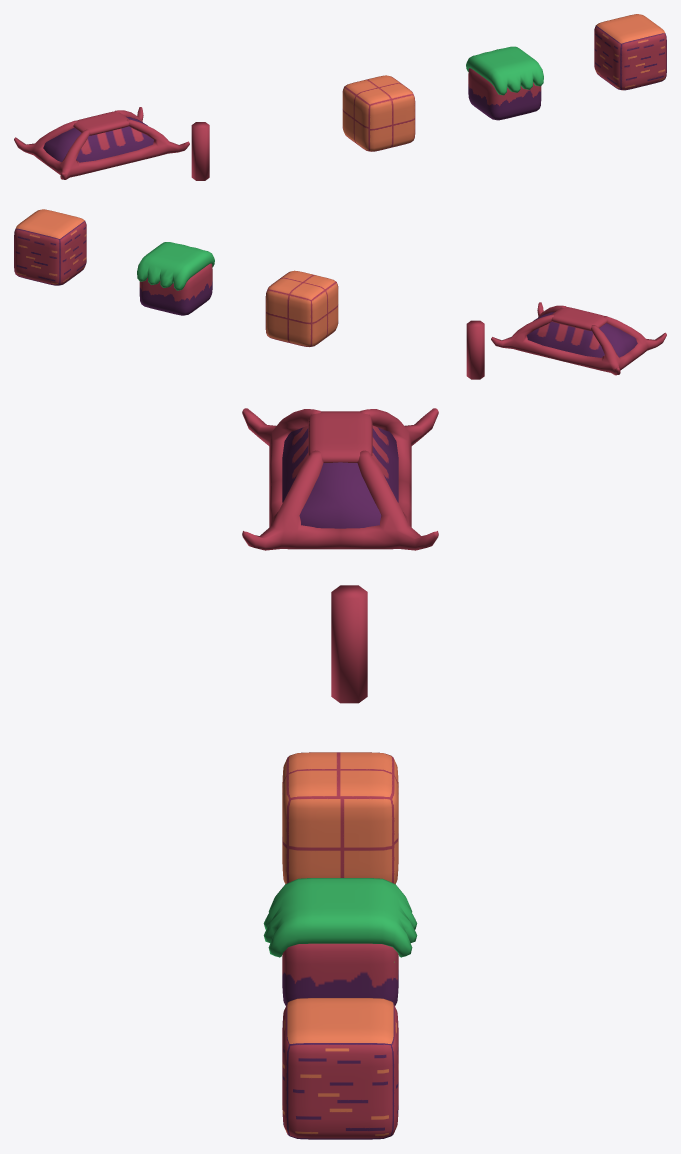
File: blocks.obj
The picture shows the model from 3 angles, top to bottom: view 1: azimuth 30°, elevation 25°; view 2: azimuth 150°, elevation 25°; view 3: azimuth 270°, elevation 25°; orthographic projection. The views are drawn at different scales.
Parts seen in each view (by area): view 1: Cube.002_Cube.003, Cube_Cube.001, Cube.005_Cube.007, Cube.003_Cube.004, Cube.004_Cube.006, Cube.001_Cube.002, Cylinder_Cylinder.001; view 2: Cube.002_Cube.003, Cube_Cube.001, Cube.005_Cube.007, Cube.003_Cube.004, Cube.004_Cube.006, Cube.001_Cube.002, Cylinder_Cylinder.001; view 3: Cube_Cube.001, Cube.005_Cube.007, Cube.002_Cube.003, Cube.003_Cube.004, Cube.004_Cube.006, Cube.001_Cube.002, Cylinder_Cylinder.001.
Part boxes in pixels (left/top/right/bottom): Cube.002_Cube.003: left=342, top=75, right=415, bottom=151; Cube_Cube.001: left=594, top=14, right=666, bottom=90; Cube.005_Cube.007: left=14, top=107, right=189, bottom=179; Cube.003_Cube.004: left=466, top=46, right=543, bottom=95; Cube.004_Cube.006: left=43, top=116, right=153, bottom=162; Cube.001_Cube.002: left=468, top=68, right=541, bottom=120; Cylinder_Cylinder.001: left=191, top=122, right=209, bottom=180; Cube.002_Cube.003: left=265, top=270, right=338, bottom=347; Cube_Cube.001: left=14, top=209, right=86, bottom=285; Cube.005_Cube.007: left=491, top=302, right=666, bottom=375; Cube.003_Cube.004: left=137, top=242, right=214, bottom=290; Cube.004_Cube.006: left=527, top=312, right=637, bottom=357; Cube.001_Cube.002: left=139, top=263, right=212, bottom=315; Cylinder_Cylinder.001: left=466, top=320, right=484, bottom=379; Cube_Cube.001: left=282, top=998, right=398, bottom=1139; Cube.005_Cube.007: left=242, top=408, right=438, bottom=550; Cube.002_Cube.003: left=282, top=752, right=398, bottom=883; Cube.003_Cube.004: left=263, top=878, right=417, bottom=957; Cube.004_Cube.006: left=282, top=425, right=398, bottom=528; Cube.001_Cube.002: left=282, top=943, right=398, bottom=1005; Cylinder_Cylinder.001: left=331, top=585, right=367, bottom=703.
Bounding box in the file's own units: 24.55 × 3.31 × 3.39.
